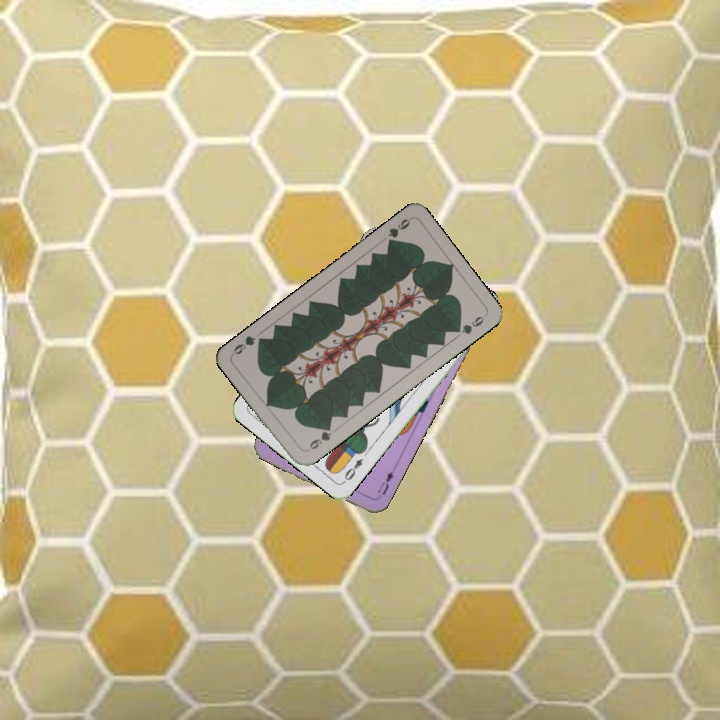EO: (339, 454, 365, 486)
EU: (374, 467, 396, 498)
G9: (302, 421, 334, 454), (383, 214, 413, 249)
